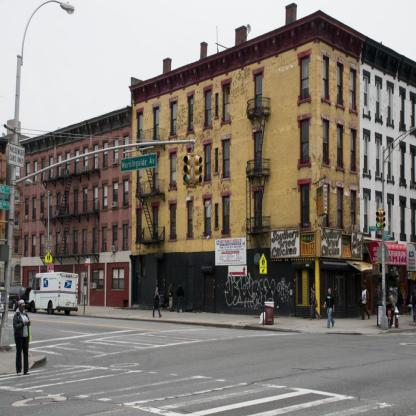Ambulance - v1 Ambulance last generate: (27, 269, 78, 313)
